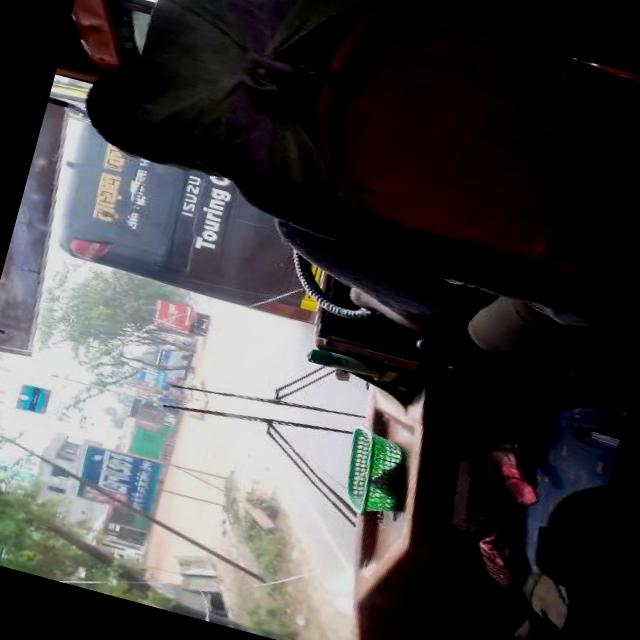truck: (54, 143, 338, 323), (148, 296, 212, 338), (148, 331, 196, 384)
